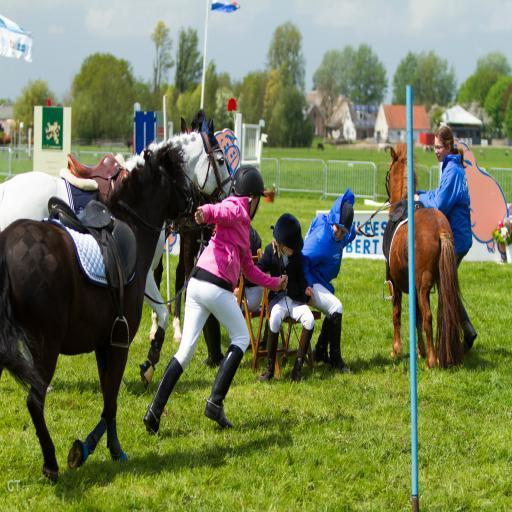horse: (0, 140, 205, 486), (0, 118, 234, 390), (386, 141, 470, 370)
